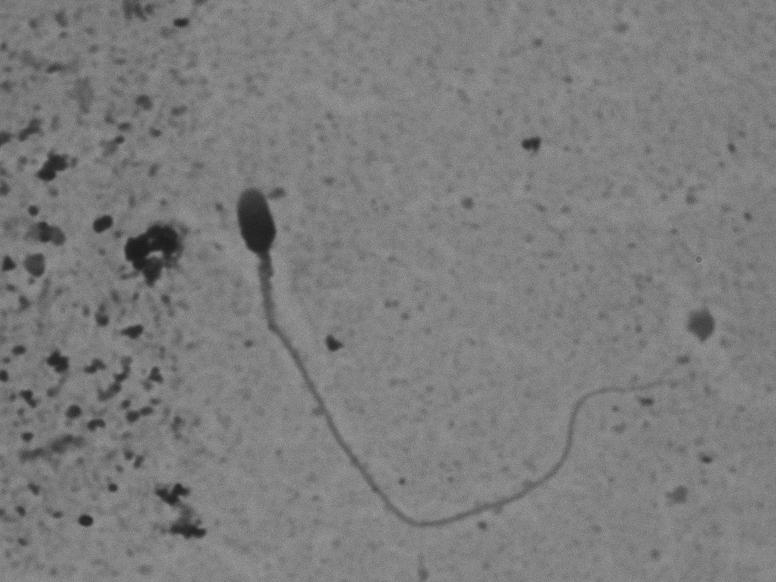Abnormal: (223, 166, 681, 559)
